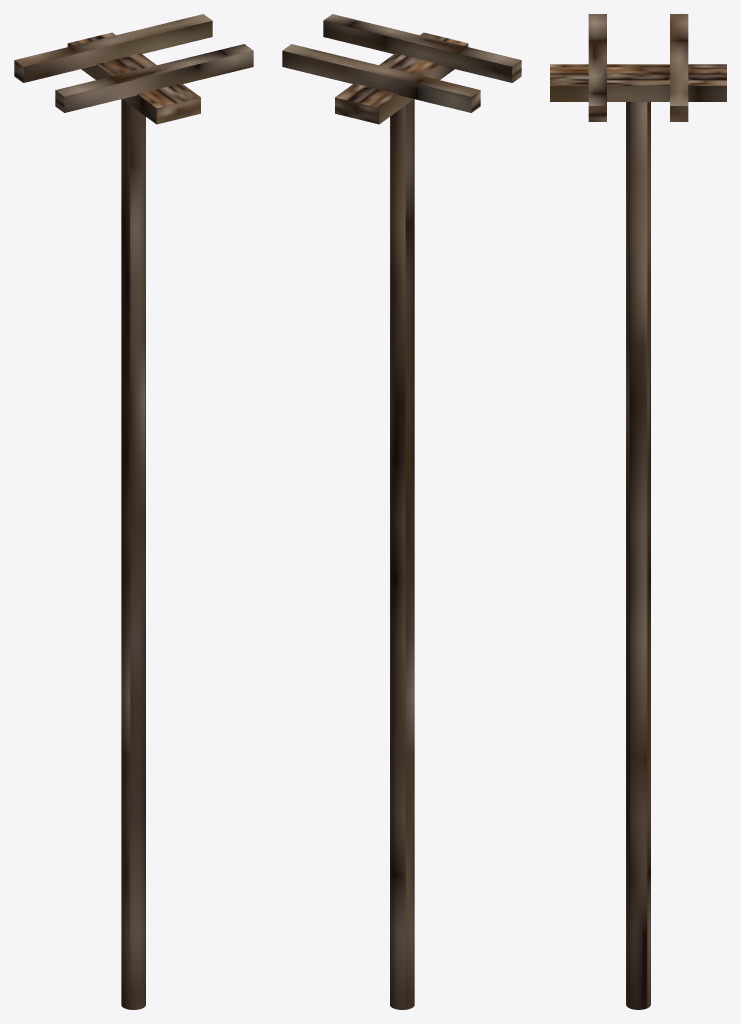
Rendered from PhoneLine-Post.fbx.
3 renders of one model, left to right at view 1: azimuth 30°, elevation 25°; view 2: azimuth 150°, elevation 25°; view 3: azimuth 270°, elevation 25°, orthographic.
Visible parts, largest first — view 1: Cube.012; view 2: Cube.012; view 3: Cube.012.
Part boxes in pixels (bbox=[...]): Cube.012: bbox=[14, 14, 253, 1009]; Cube.012: bbox=[282, 14, 521, 1009]; Cube.012: bbox=[550, 14, 726, 1009].
Bounding box in the file's own units: 307 × 1470 × 249.
